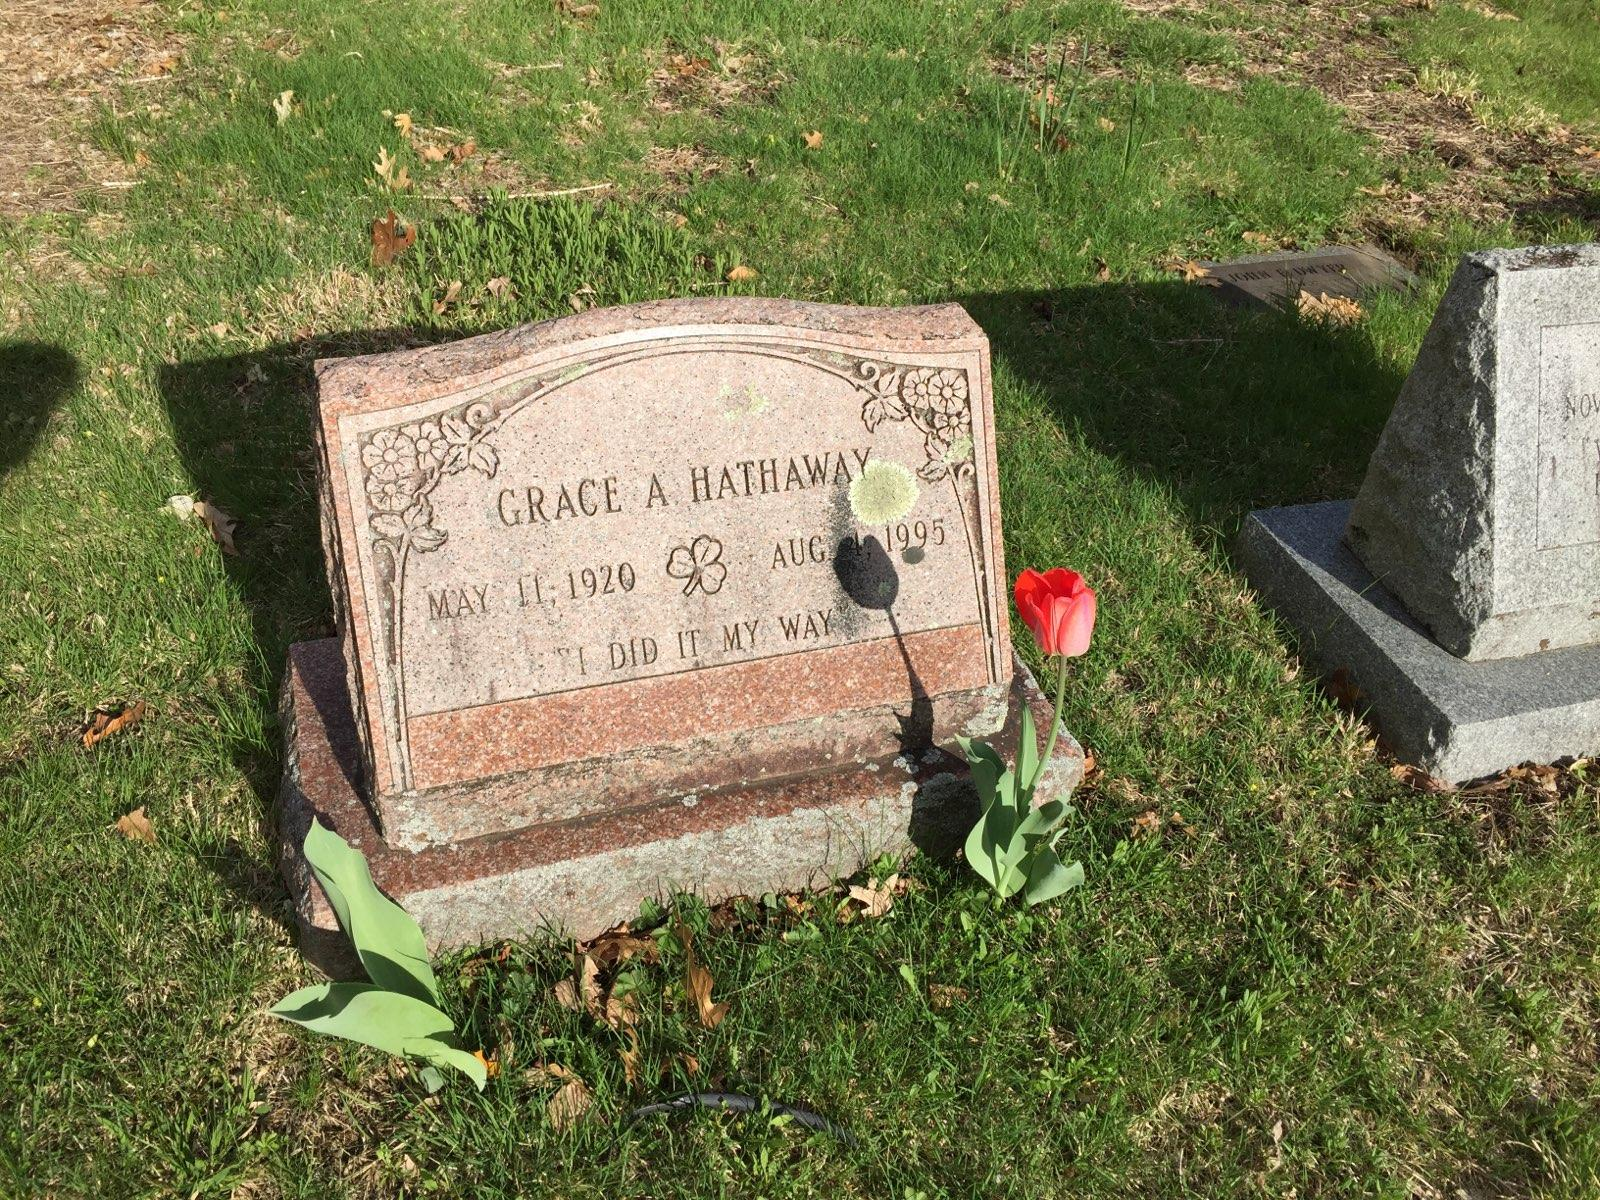slant: (290, 310, 1020, 847)
